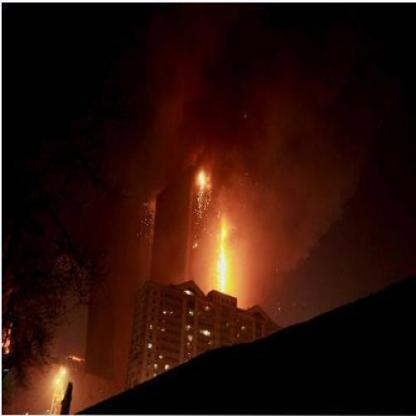fire: (210, 200, 236, 288), (195, 153, 210, 189)
other: (47, 358, 76, 397)
